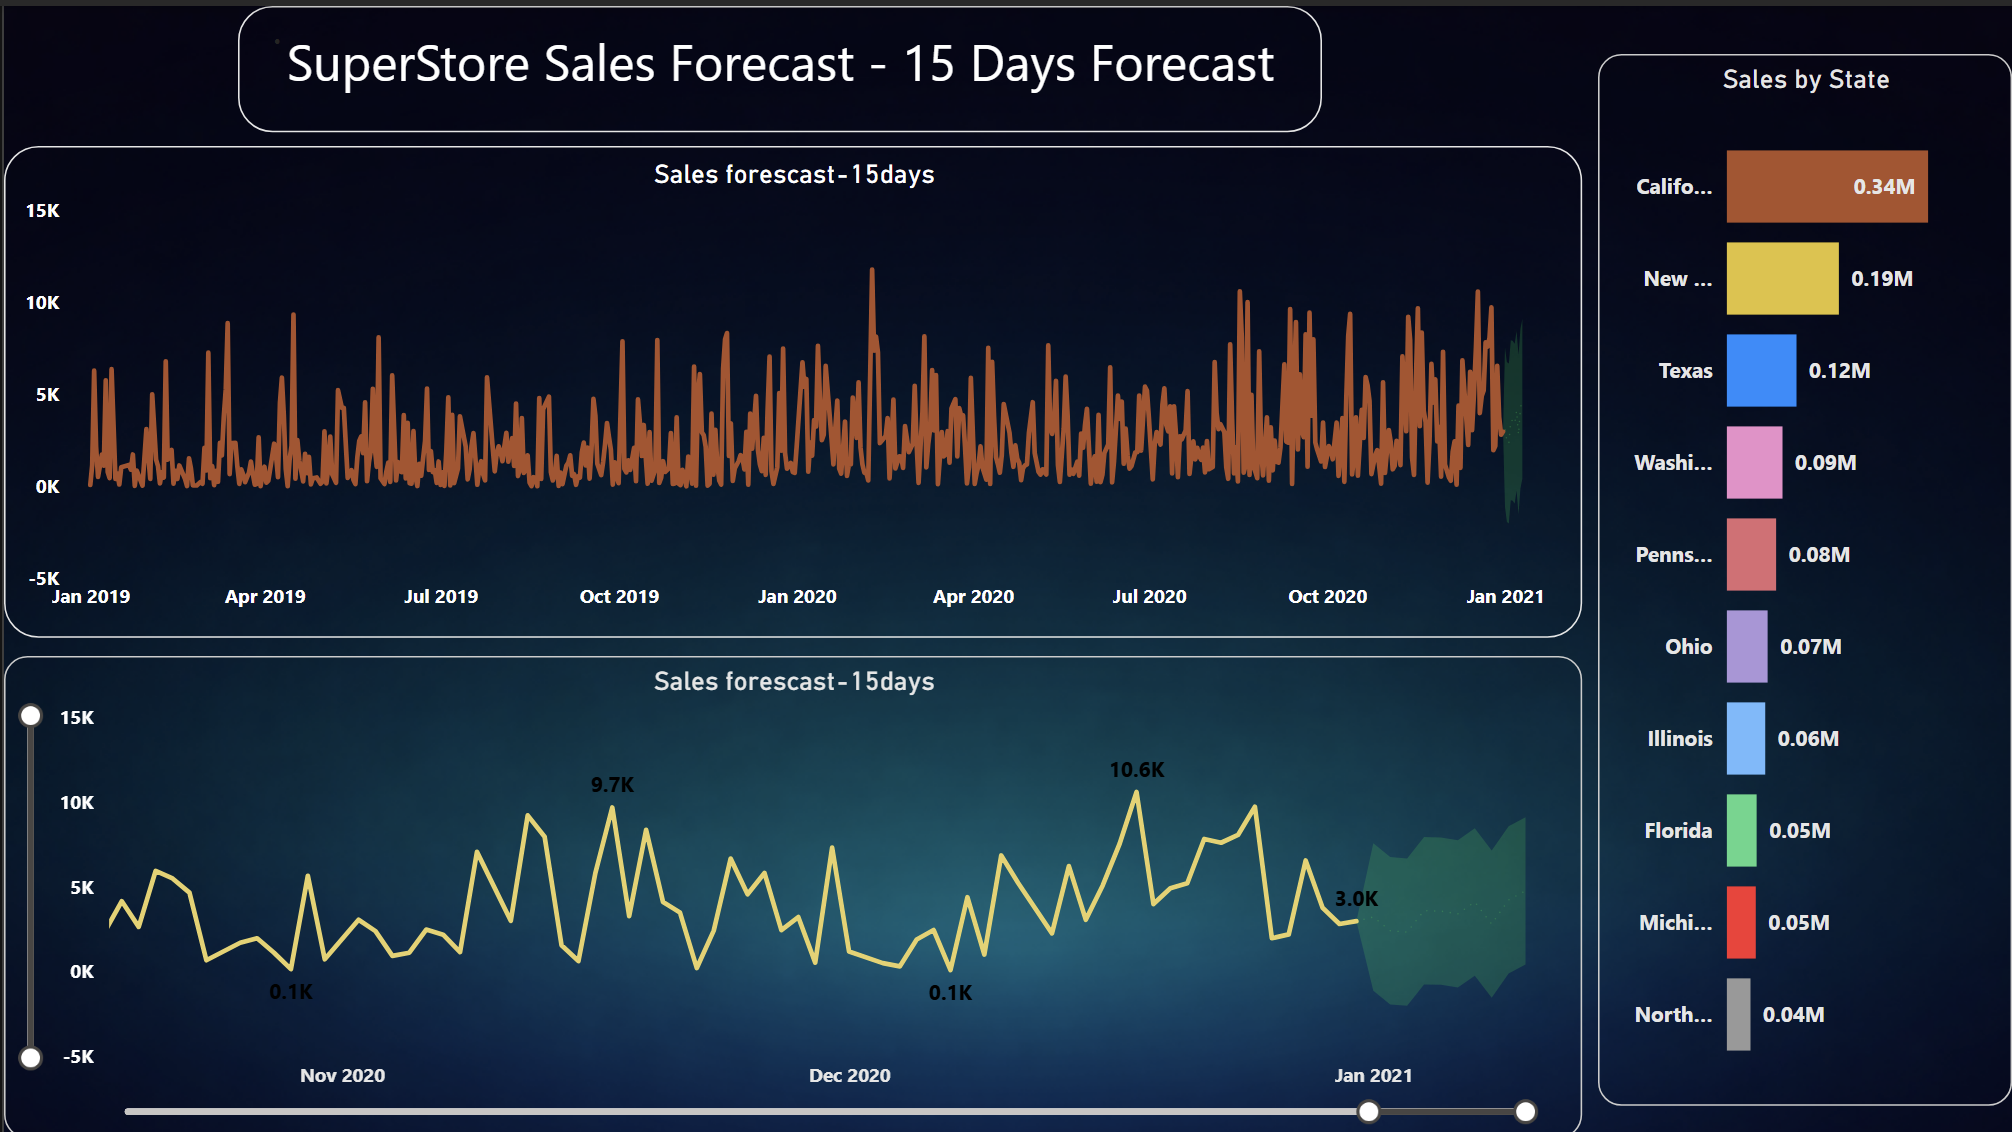

The dashboard page shown, as its layout file describes it:
{"tool":"powerbi","page":{"name":"Page 2","canvas":[1280,720],"ordinal":1},"visuals":[{"type":"lineChart","title":"Sales forescast-15days","fields":{"Y":["Sum(SuperStore_Sales_Dataset.Sales)"],"Category":["SuperStore_Sales_Dataset.Order Date"]},"box":[0,89.2,1005.9,313.6],"z":0},{"type":"lineChart","title":"Sales forescast-15days","fields":{"Y":["Sum(SuperStore_Sales_Dataset.Sales)"],"Category":["SuperStore_Sales_Dataset.Order Date"]},"box":[0,414.3,1005.9,307.3],"z":1000},{"type":"textbox","box":[149.2,0,691,80.3],"z":2000},{"type":"clusteredBarChart","title":"Sales by State","fields":{"Category":["SuperStore_Sales_Dataset.State"],"Y":["Sum(SuperStore_Sales_Dataset.Sales)"]},"box":[1016.1,30.6,263.9,670.6],"z":3000}]}

Visuals, with their boxes in screenshot pixels (x1, y1, x2, y2), scaled from the page's 1280x720 canvas onto the 2012x1132 screenshot:
"Sales forescast-15days" lineChart: Rect(0, 140, 1581, 633)
"Sales forescast-15days" lineChart: Rect(0, 651, 1581, 1131)
textbox: Rect(235, 0, 1321, 126)
"Sales by State" clusteredBarChart: Rect(1597, 48, 2011, 1102)
